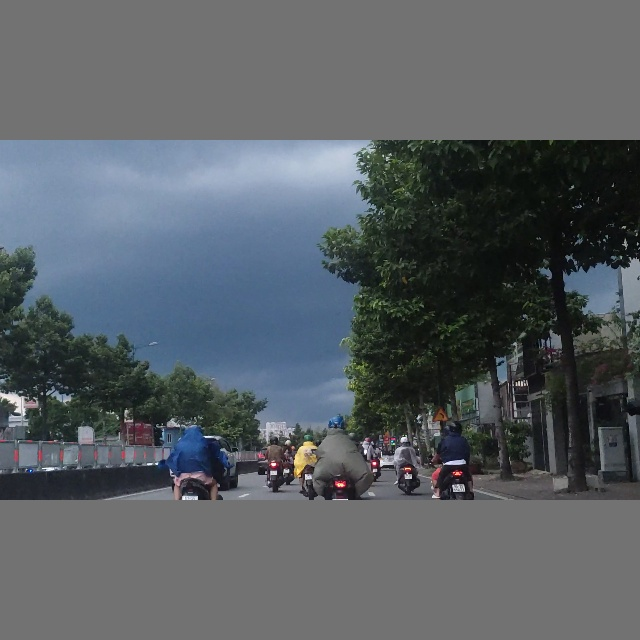W.201a: (433, 408, 449, 421)
